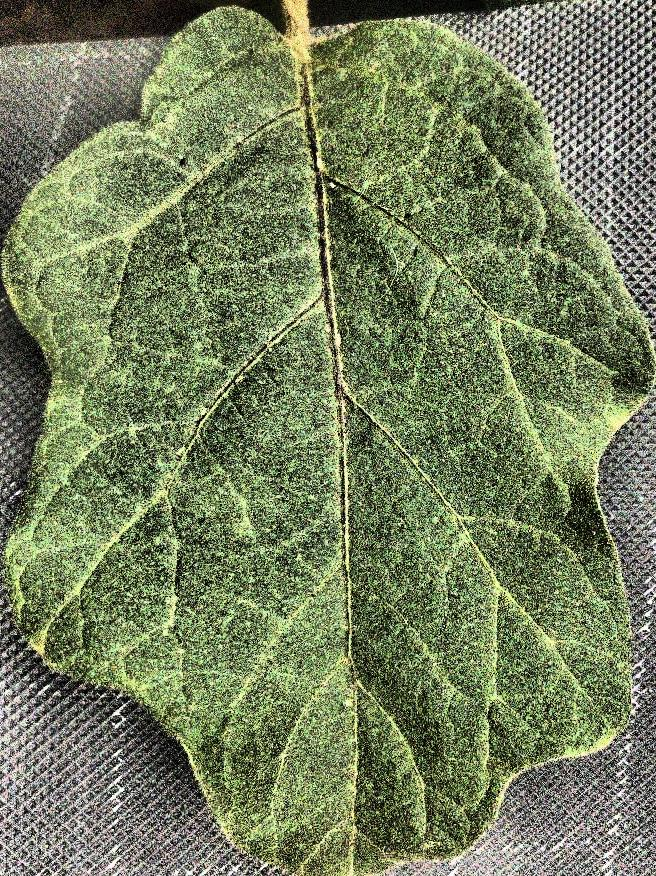HEALTHY: (1, 1, 656, 876)
